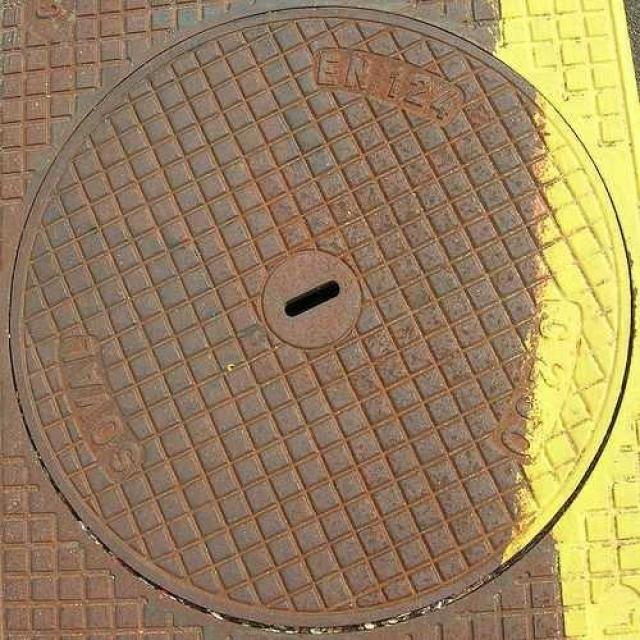manhole: (10, 5, 633, 629)
